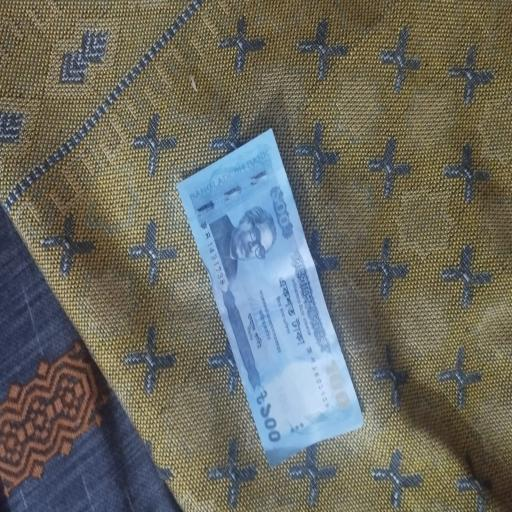100taka: (172, 127, 367, 465)
